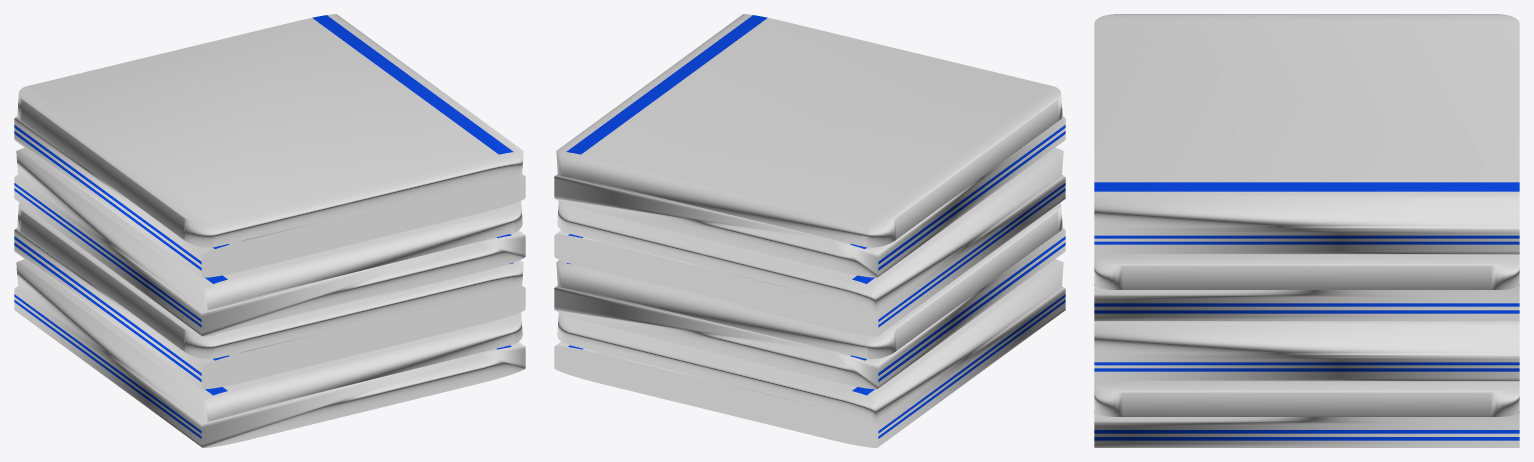
The model's file is Towels.fbx.
3 renders of one model, left to right at view 1: azimuth 30°, elevation 25°; view 2: azimuth 150°, elevation 25°; view 3: azimuth 270°, elevation 25°, orthographic. The views are drawn at different scales.
Parts seen in each view (by area): view 1: Towels; view 2: Towels; view 3: Towels.
Part boxes in pixels (x1=…): Towels: x1=14, y1=14, x2=525, y2=447; Towels: x1=554, y1=14, x2=1065, y2=447; Towels: x1=1094, y1=14, x2=1519, y2=447.
Bounding box in the file's own units: 207 × 133 × 200.
